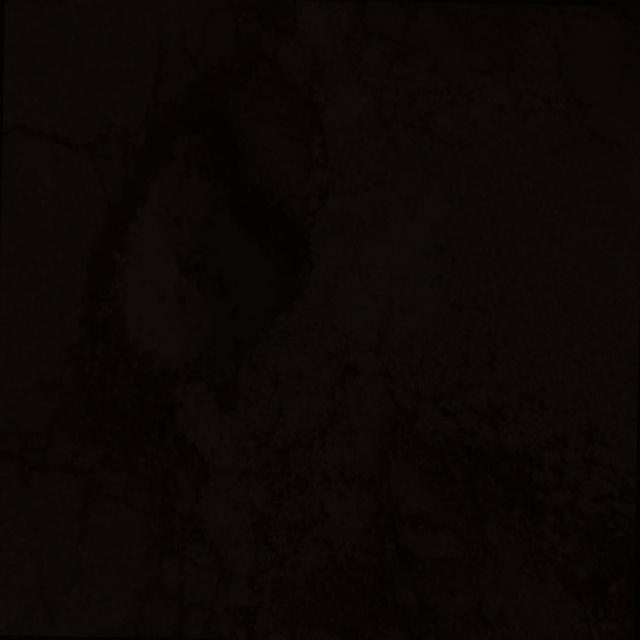Pothole: (88, 81, 328, 414), (353, 423, 640, 640)
